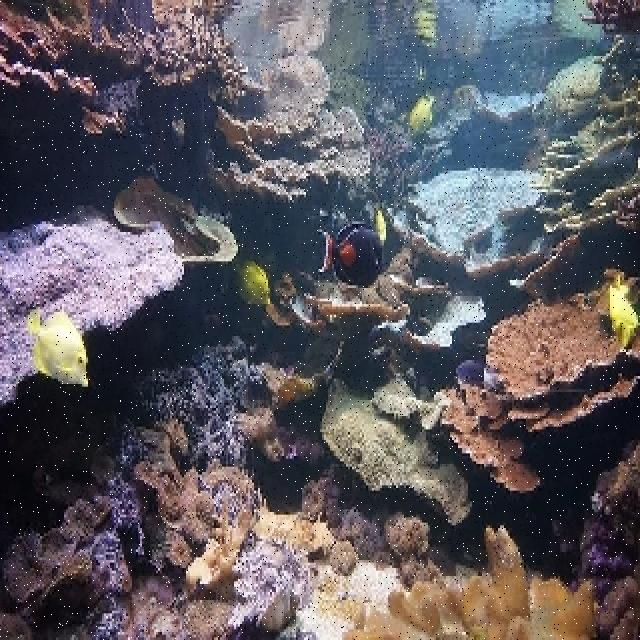fish: (24, 309, 88, 386), (317, 220, 384, 290), (603, 269, 638, 347), (226, 258, 270, 307), (403, 93, 436, 142), (455, 359, 485, 393)
reefs: (1, 201, 185, 406), (0, 0, 272, 136), (206, 54, 372, 202), (435, 373, 638, 491), (322, 379, 473, 527), (487, 286, 638, 400), (373, 375, 445, 432)
